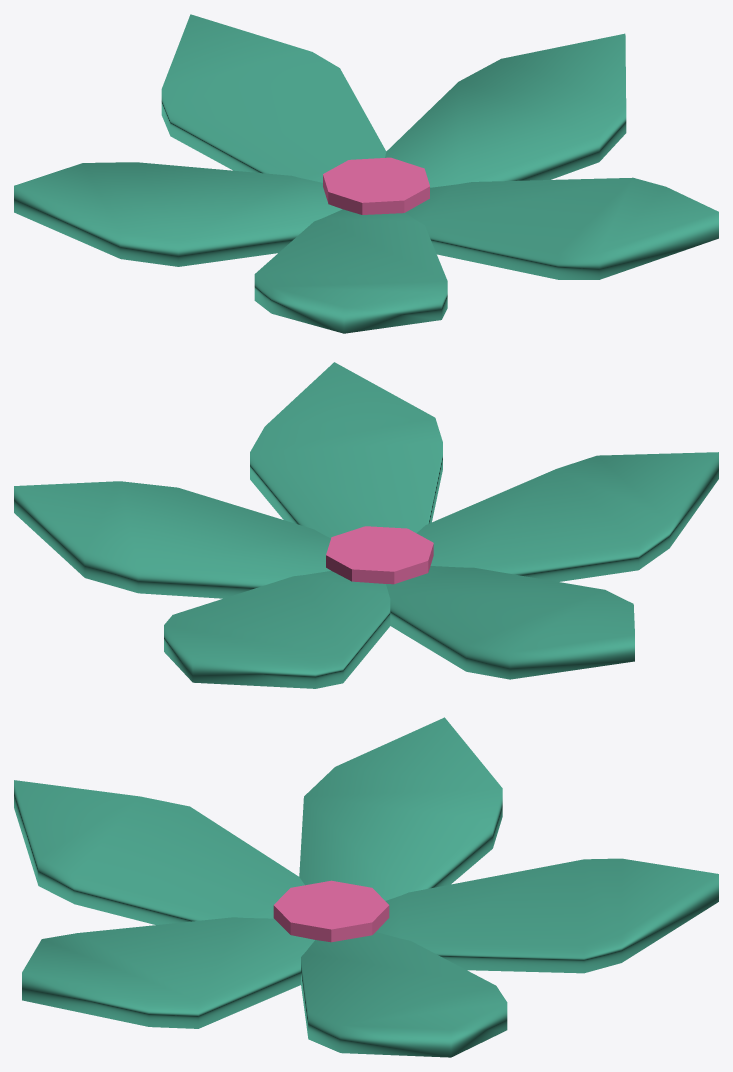
The model's file is Flower_Turquoise_5.fbx.
The picture shows the model from 3 angles, top to bottom: view 1: azimuth 30°, elevation 25°; view 2: azimuth 150°, elevation 25°; view 3: azimuth 270°, elevation 25°; orthographic projection. The views are drawn at different scales.
Parts seen in each view (by area): view 1: Cube.138, Cylinder.642; view 2: Cube.138, Cylinder.642; view 3: Cube.138, Cylinder.642.
Boxes of the visible parts, left/top/right/bottom form: Cube.138: left=14, top=14, right=718, bottom=333; Cylinder.642: left=323, top=157, right=429, bottom=214; Cube.138: left=14, top=362, right=718, bottom=688; Cylinder.642: left=326, top=526, right=433, bottom=584; Cube.138: left=14, top=717, right=718, bottom=1057; Cylinder.642: left=273, top=880, right=389, bottom=942.
Bounding box in the file's own units: 71.56 × 7.88 × 68.25.
